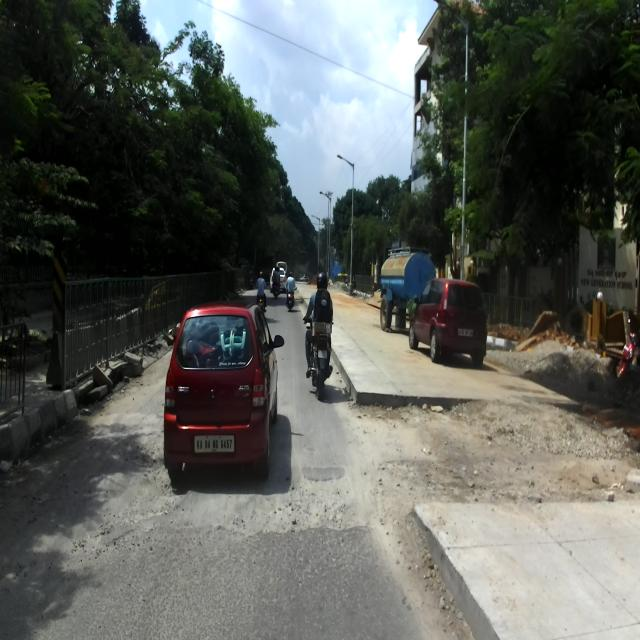car ahead at: (165, 307, 278, 481), (407, 277, 490, 364)
motorcycle ahead at: (304, 327, 340, 398)
stones ahead at: (84, 344, 146, 406)
